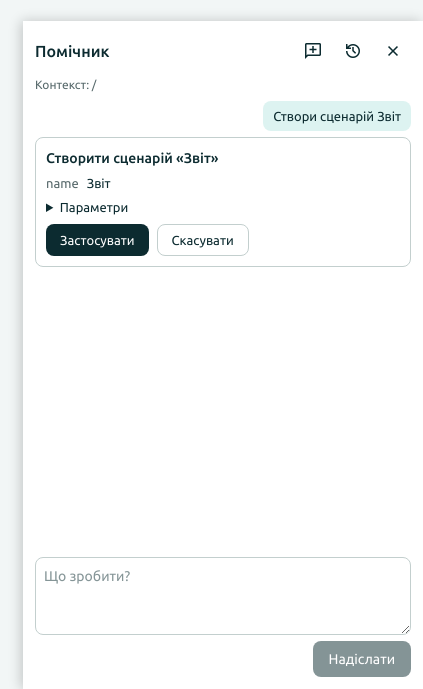
GlobalAssistantComponent › пропозиція змін у відповіді — картка; «Застосувати» шле рішення й оновлює картку
The image size is (423, 689).
Click the button with test id "proposal-apply" at (97, 240), box [46,224,148,256]
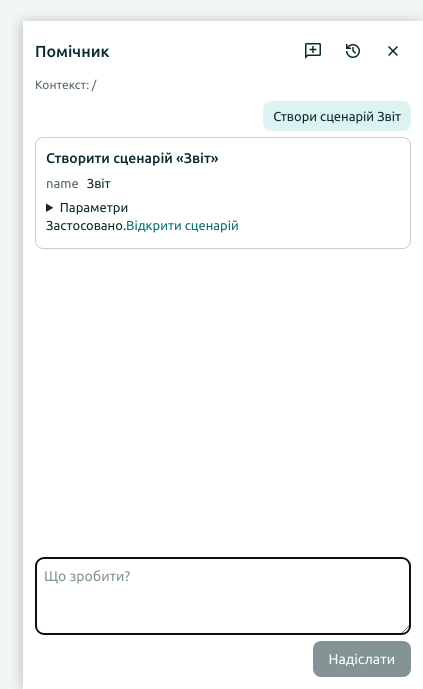
Check: the button with test id "proposal-apply" is gone
